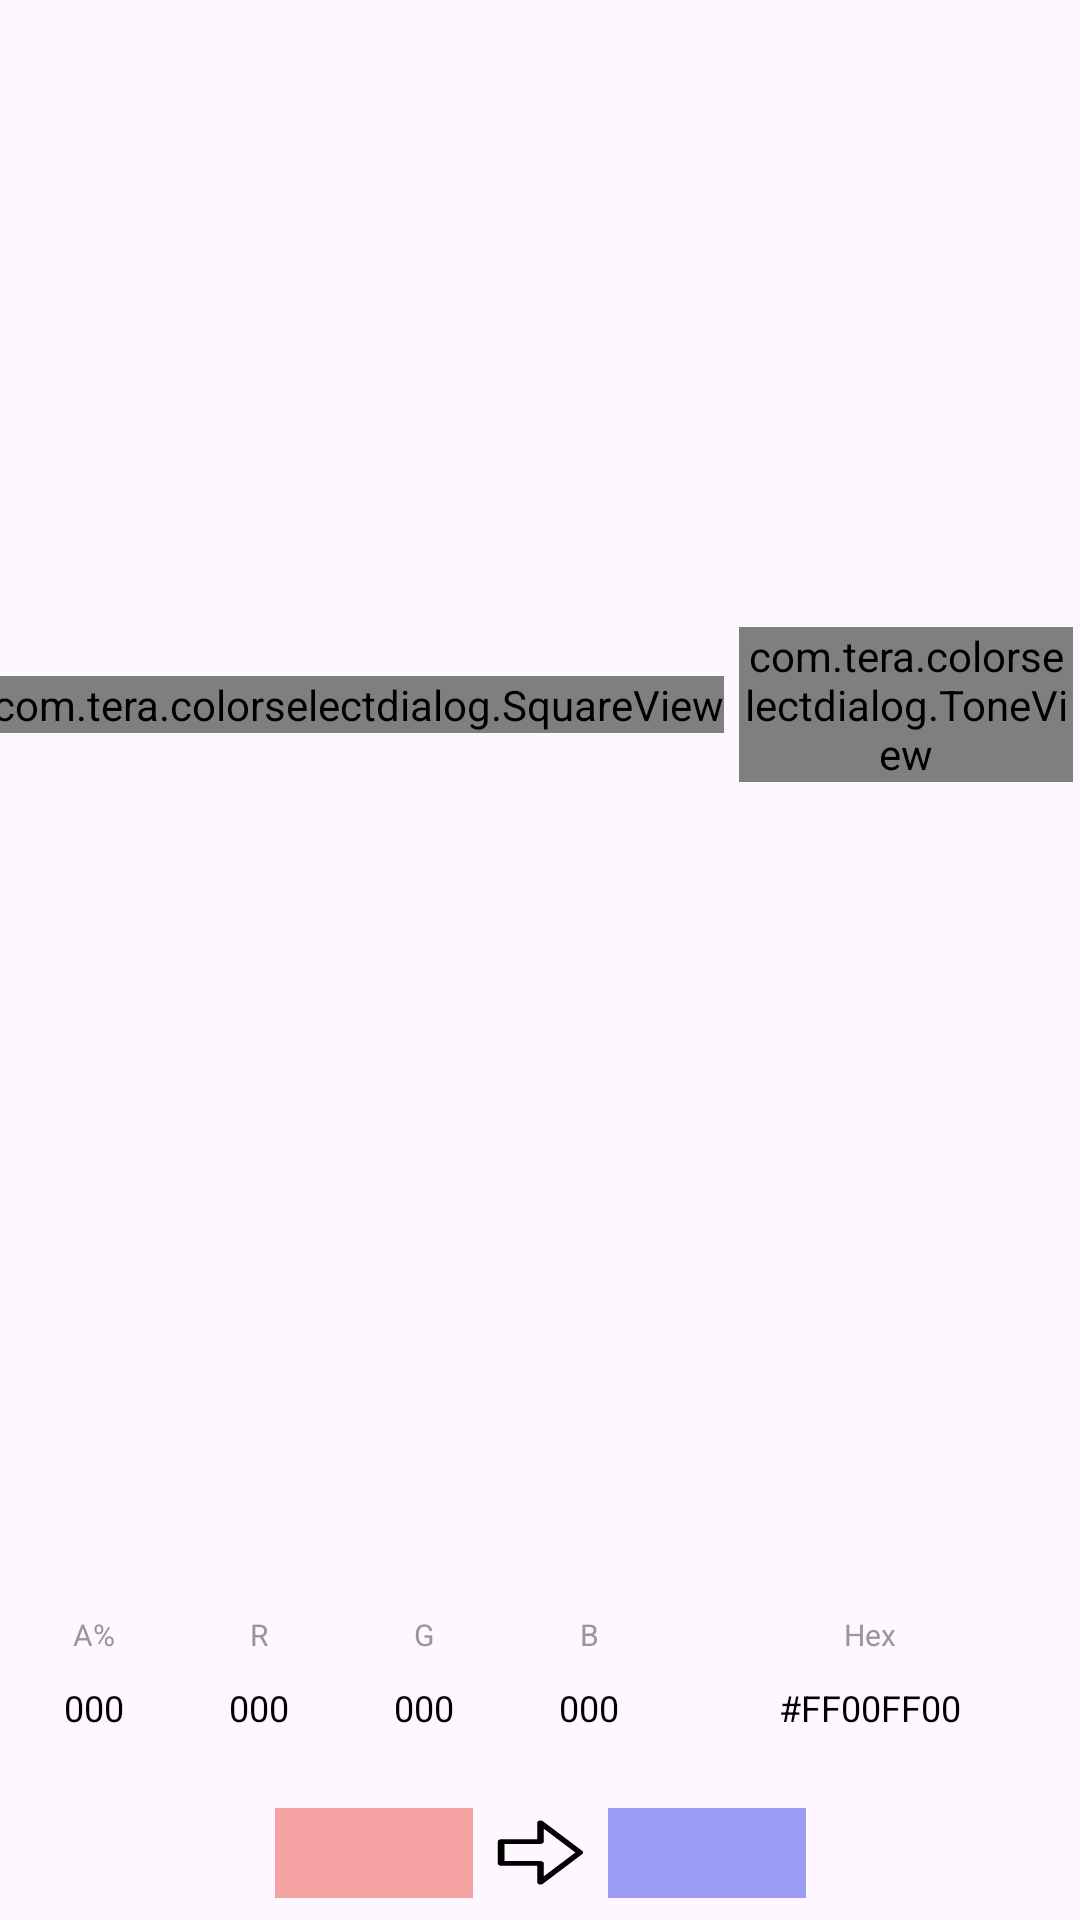

Icons on this 1080w x 1920h Android screen, each with its box as bbox=[x1, y1, x2, y2]:
arrow right: bbox=[497, 1820, 583, 1885]
